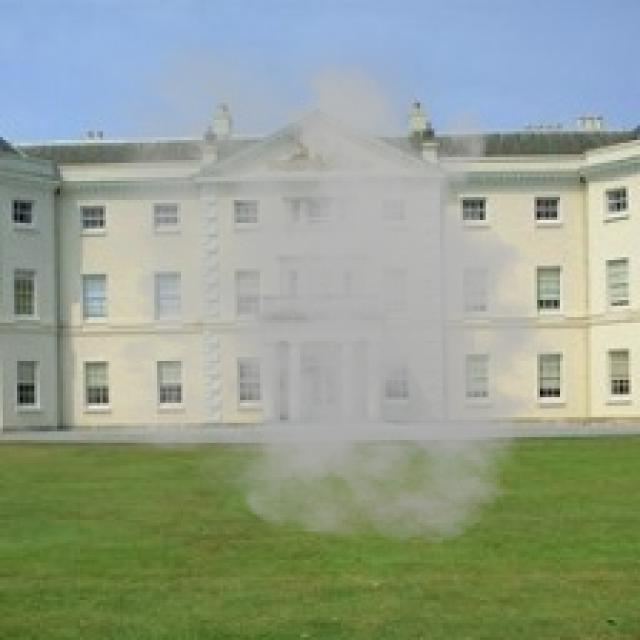smoke: (54, 14, 574, 546)
